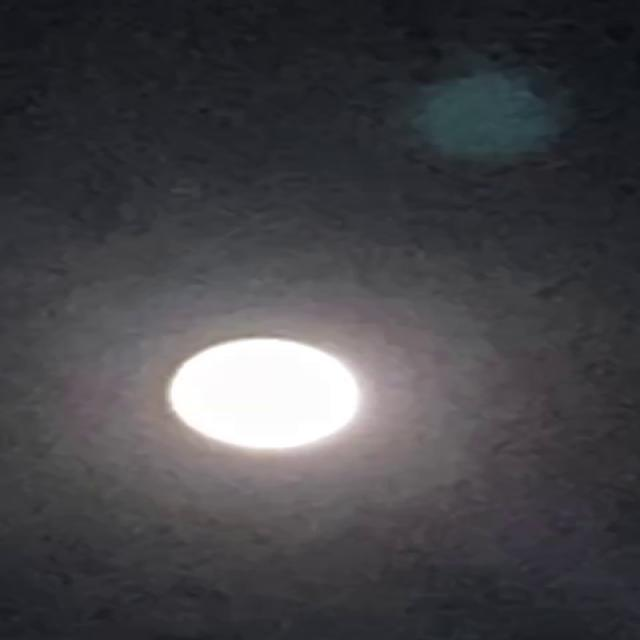moon: (165, 320, 388, 464)
